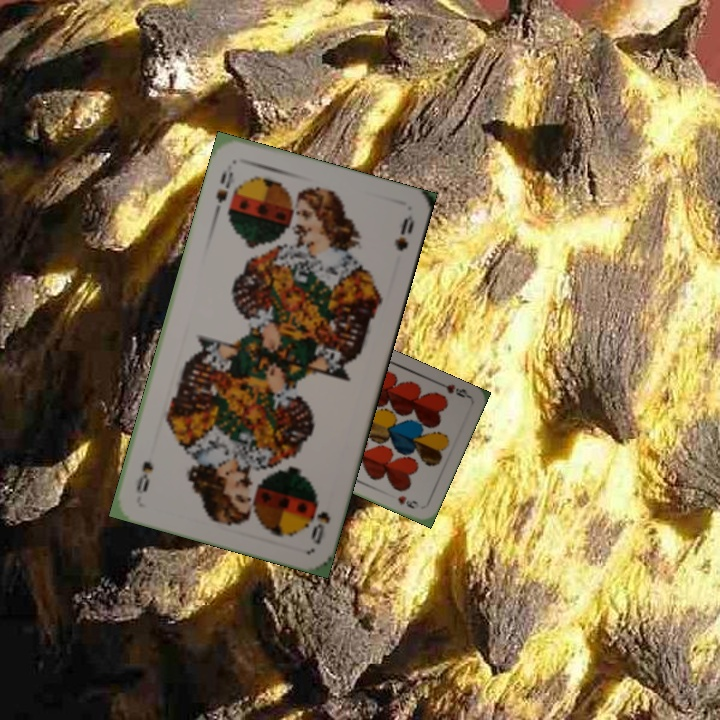H9: (433, 377, 472, 401)
SO: (209, 160, 238, 218), (307, 497, 333, 547)
